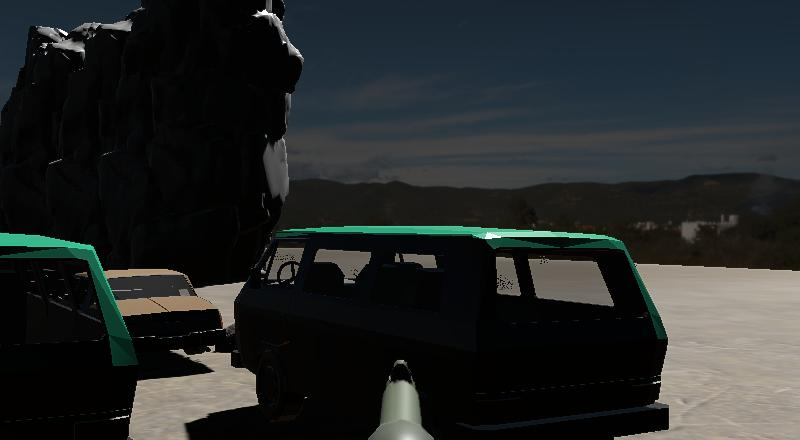car: (232, 226, 677, 439), (0, 229, 143, 440), (68, 266, 227, 357)
